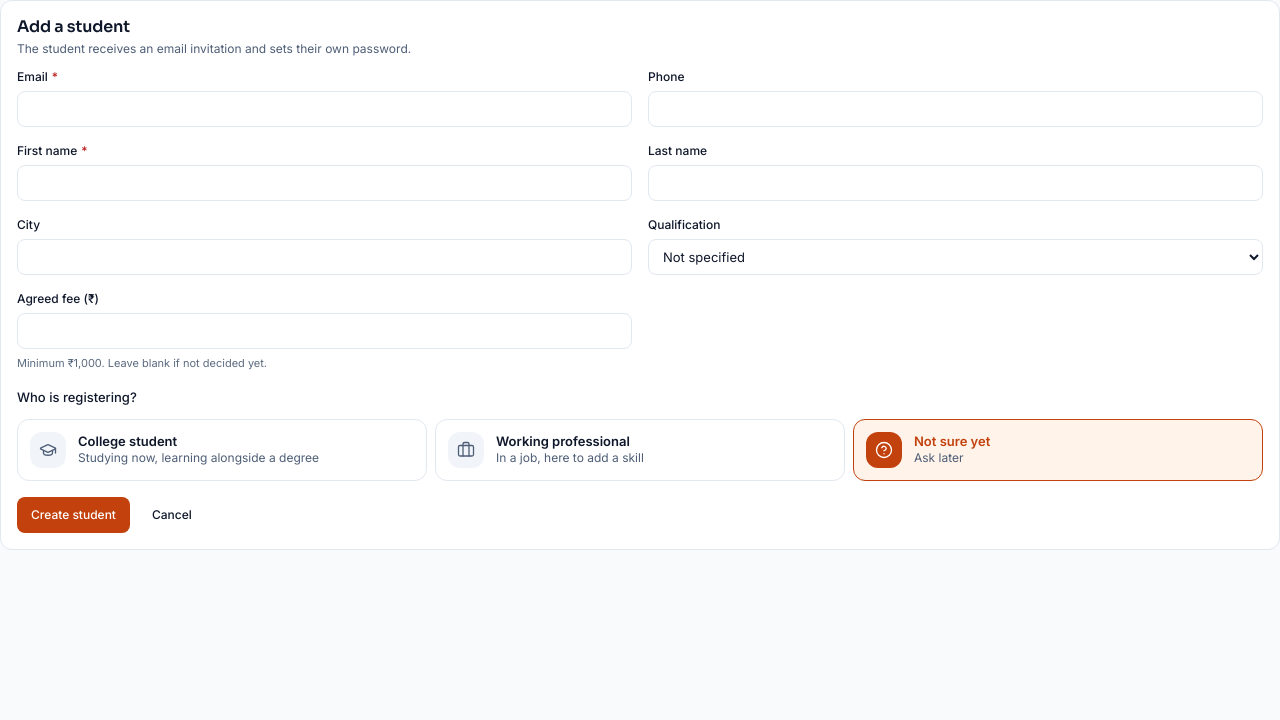
Scenario: CreateStudentDialog — on-blur validation › still runs the unchanged on-submit path: server errors populate fieldErrors exactly as before
Type "asha@example.com" into the field labelled "Email*" at (324, 109), box [17,91,632,127]
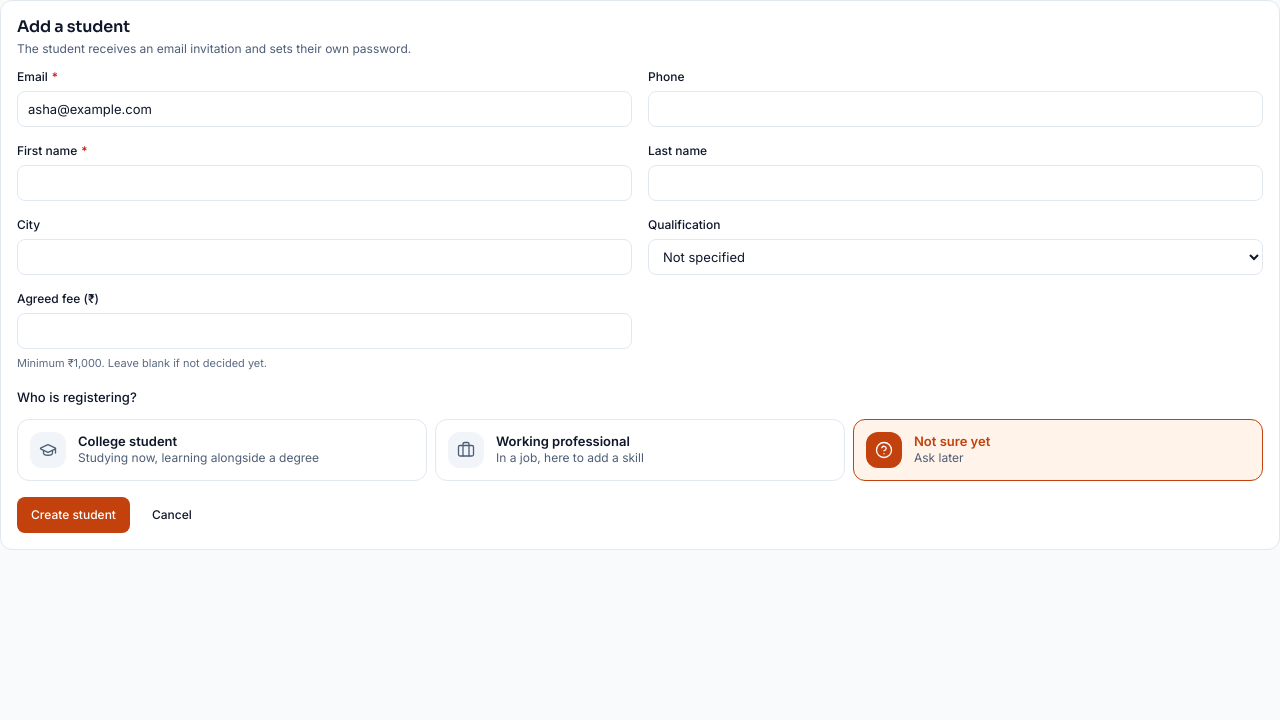
Type "Asha" into the field labelled "First name*" at (324, 183), box [17,165,632,201]
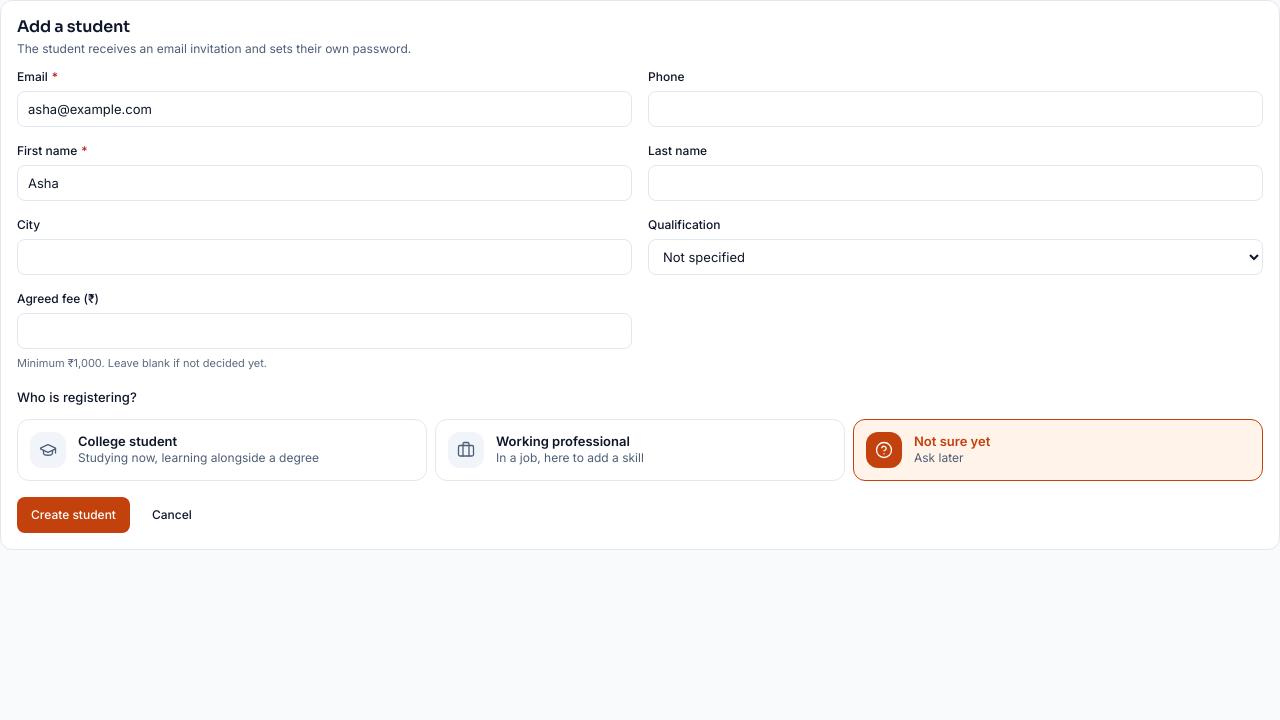
Click the button "Create student" at (74, 515), box [17,497,130,533]
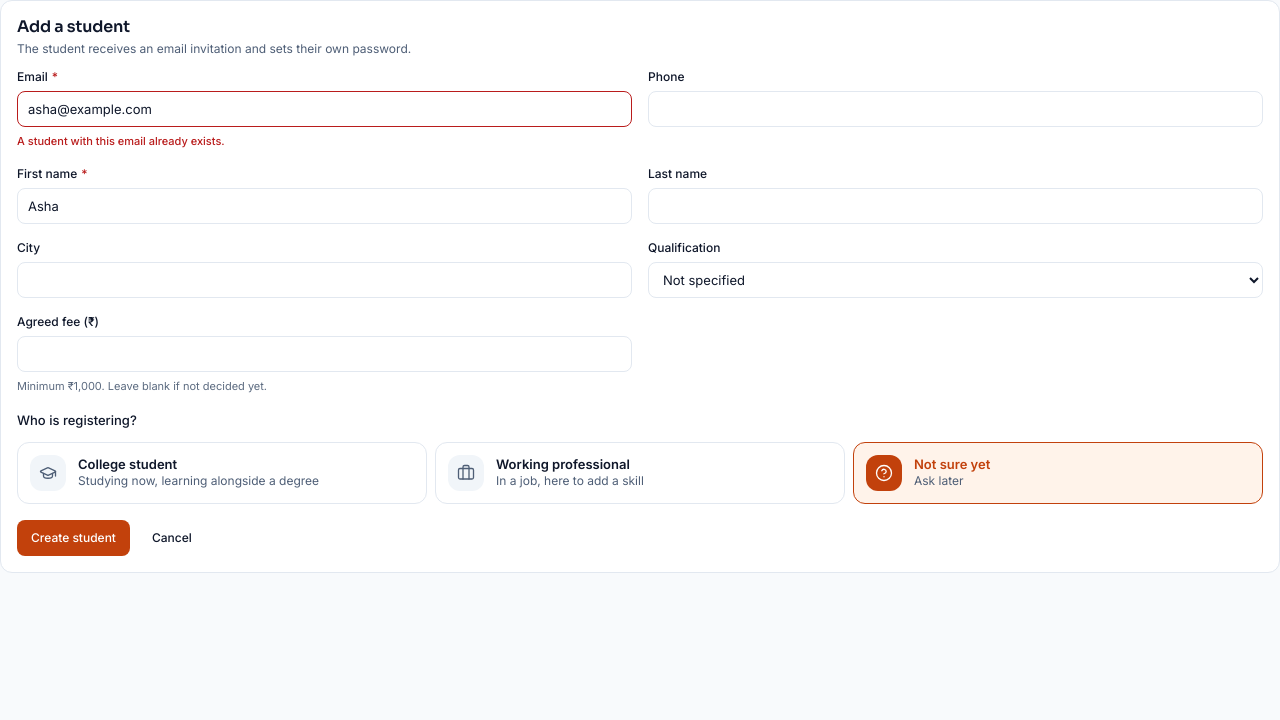
Expected: the text "A student with this email already exists." is shown, [17,134,225,148]
